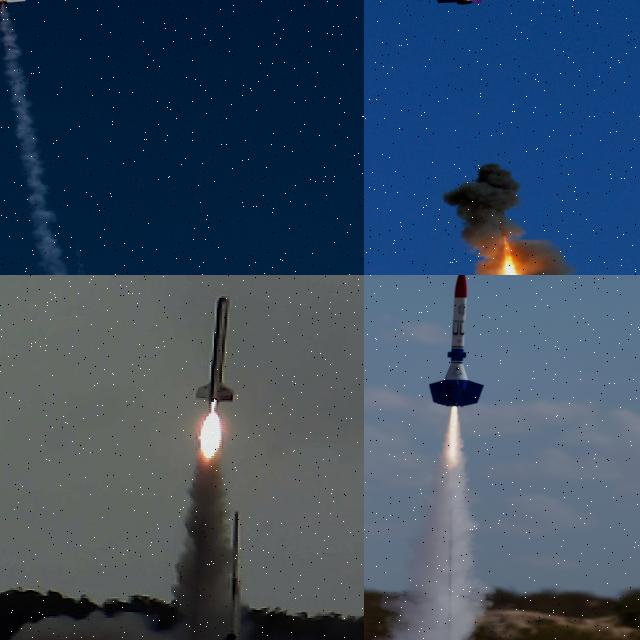Rocket: (428, 275, 485, 408), (196, 295, 236, 403)
